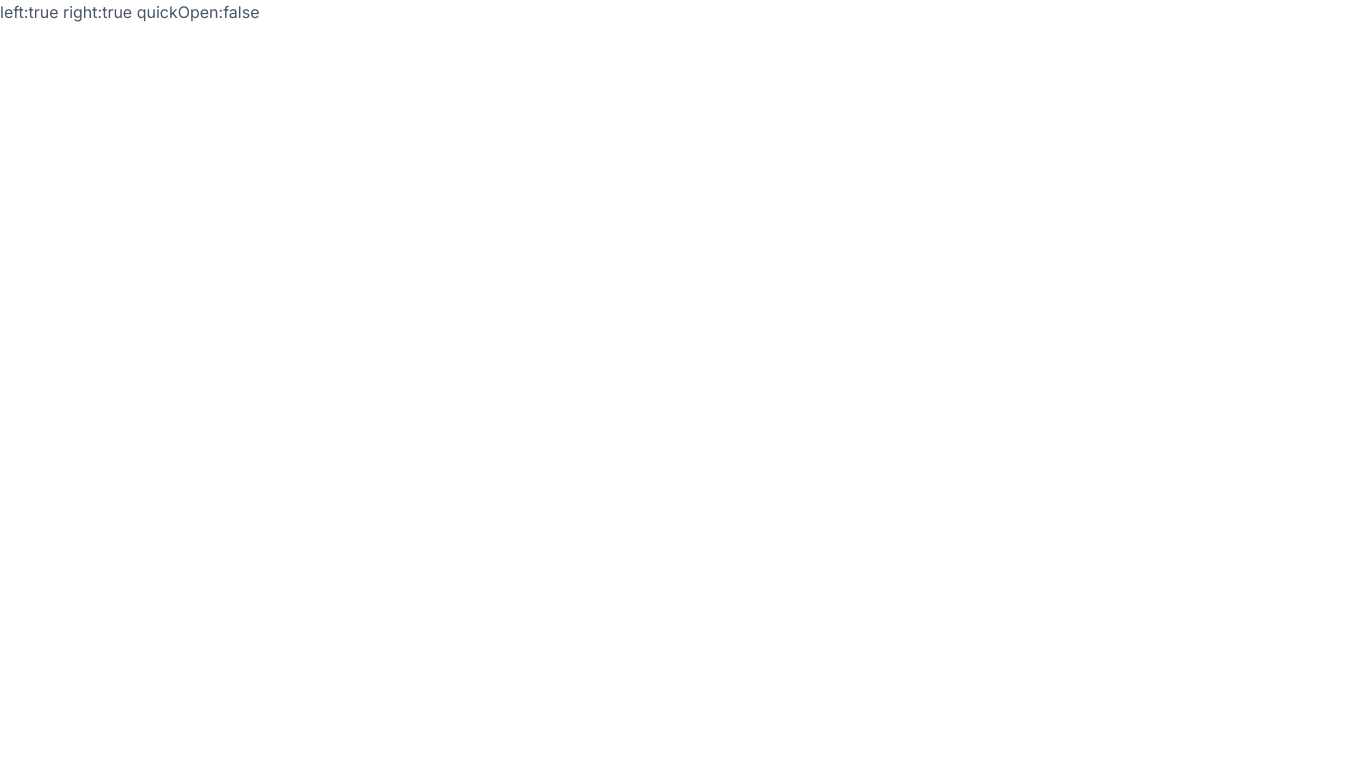
Scenario: CommandPalette › shows 'No commands found' when the query matches nothing
The width and height of the screenshot is (1366, 768).
Press k
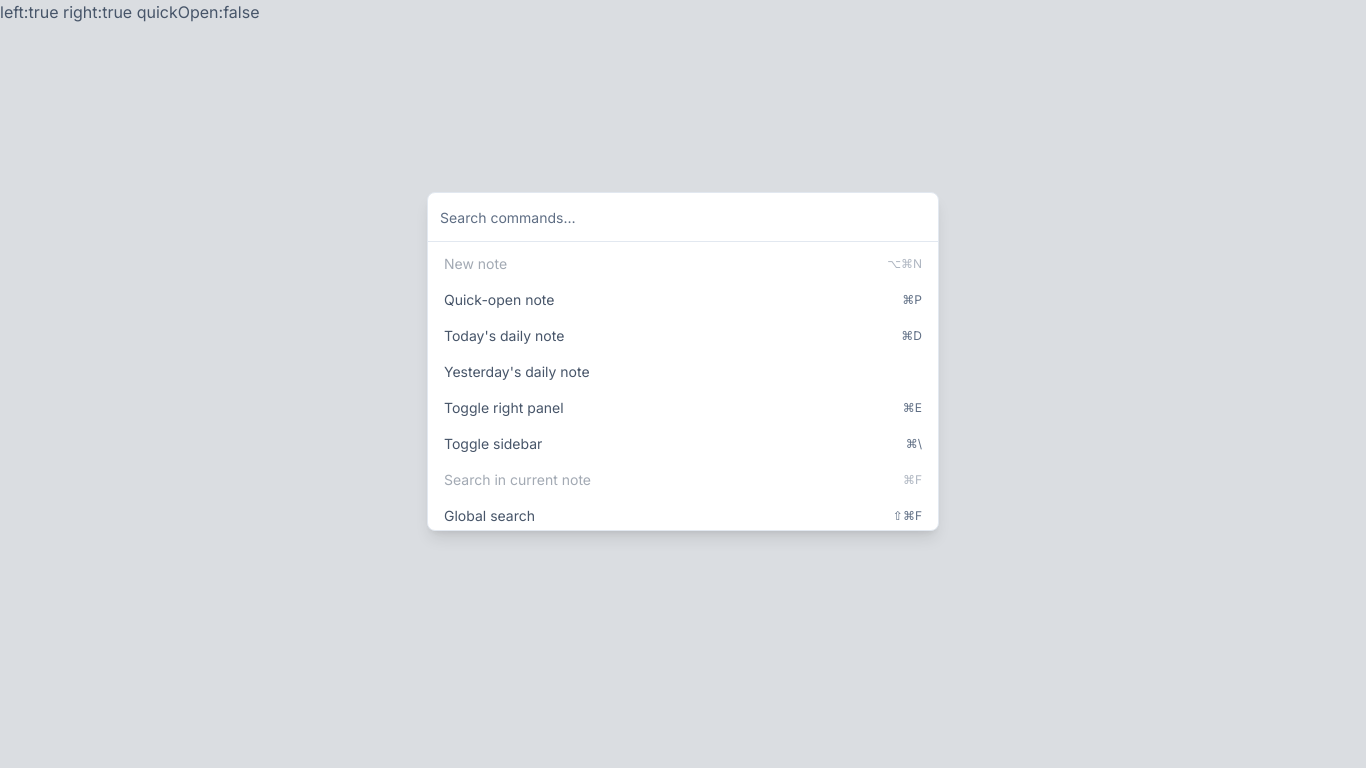
Type "zzz-no-match" into the dropdown at (683, 218), box [440,208,926,228]
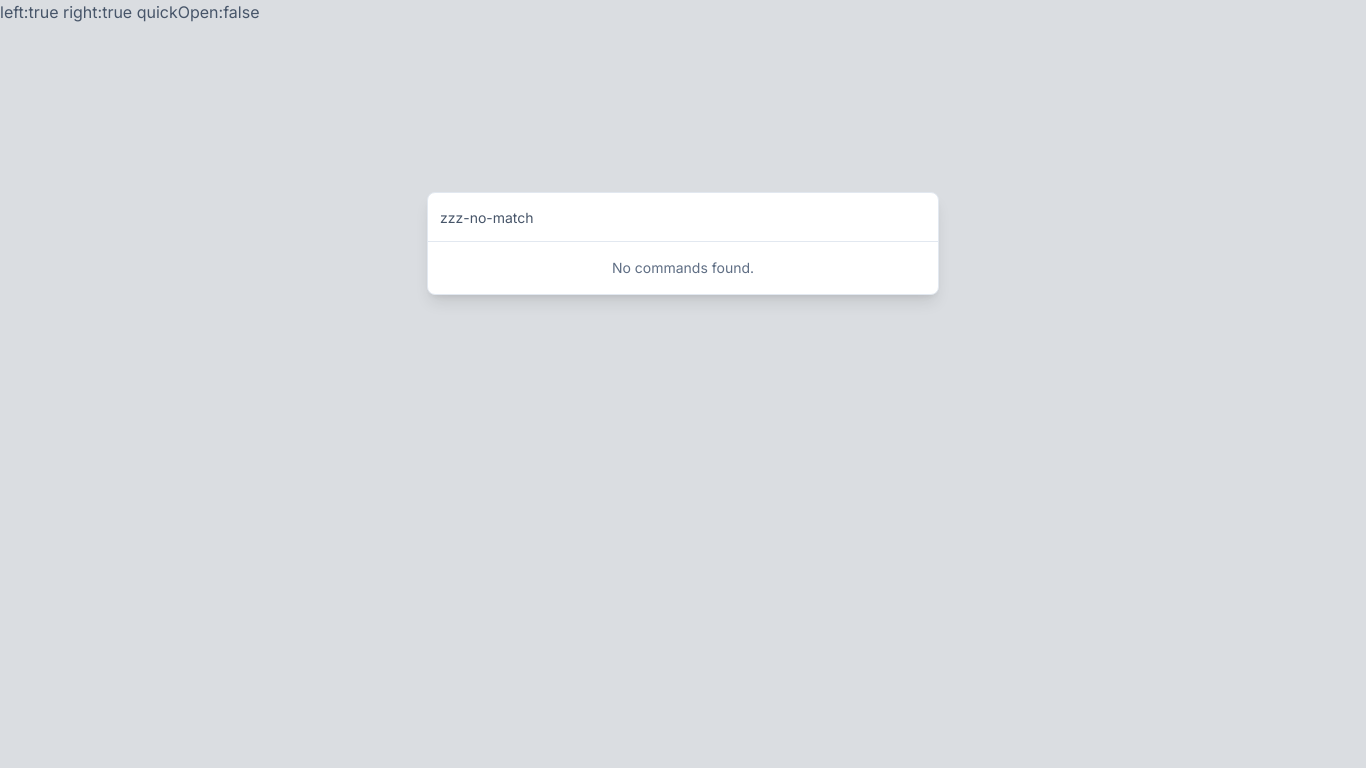
Result: the text "No commands found." is shown at [612,259,754,276]
Result: the option is gone
